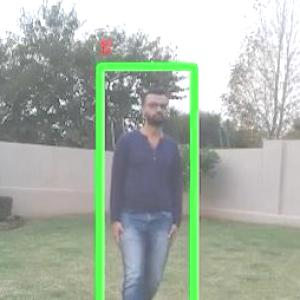follow: (102, 59, 188, 299)
